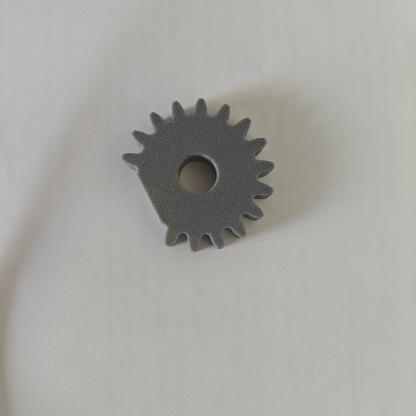defect: (110, 153, 193, 248)
gear: (102, 84, 300, 269)
